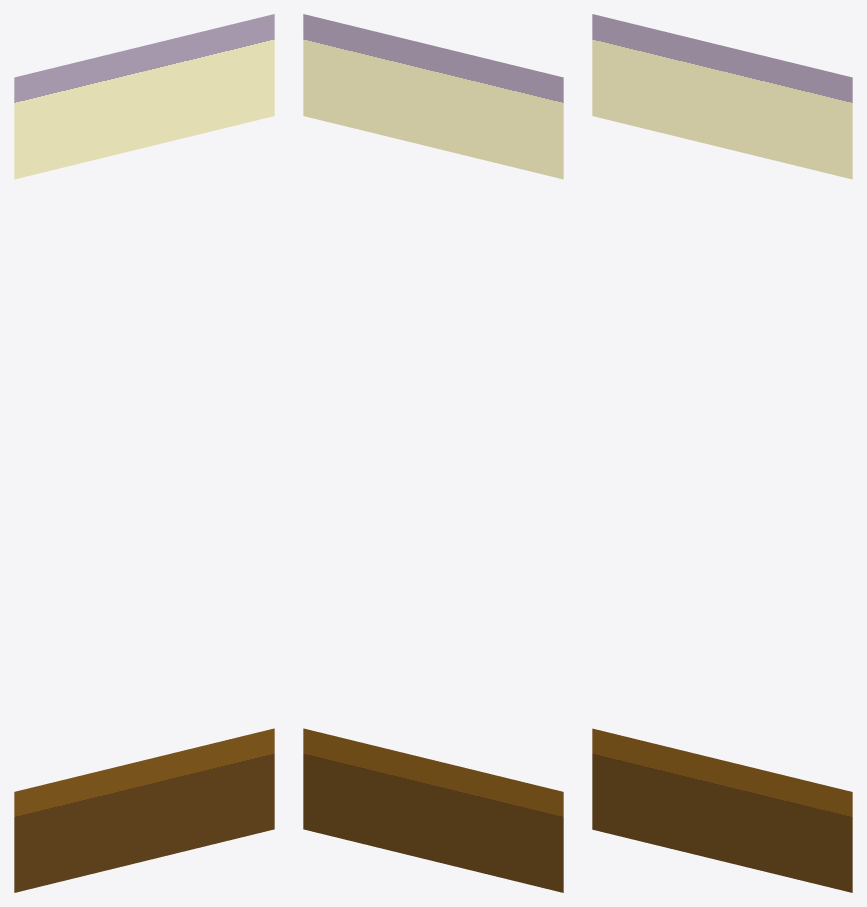
The picture shows the model from 3 angles, left to right: view 1: azimuth 30°, elevation 25°; view 2: azimuth 150°, elevation 25°; view 3: azimuth 330°, elevation 25°; orthographic projection.
Size of the model in its own units: 1 by 3 by 0.
1 material, 1 textured.
